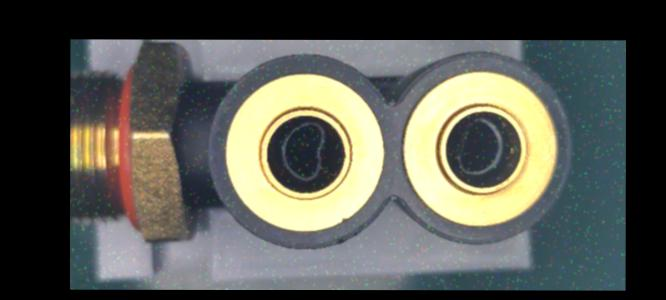off-centered: (449, 113, 506, 185), (275, 118, 332, 186)
